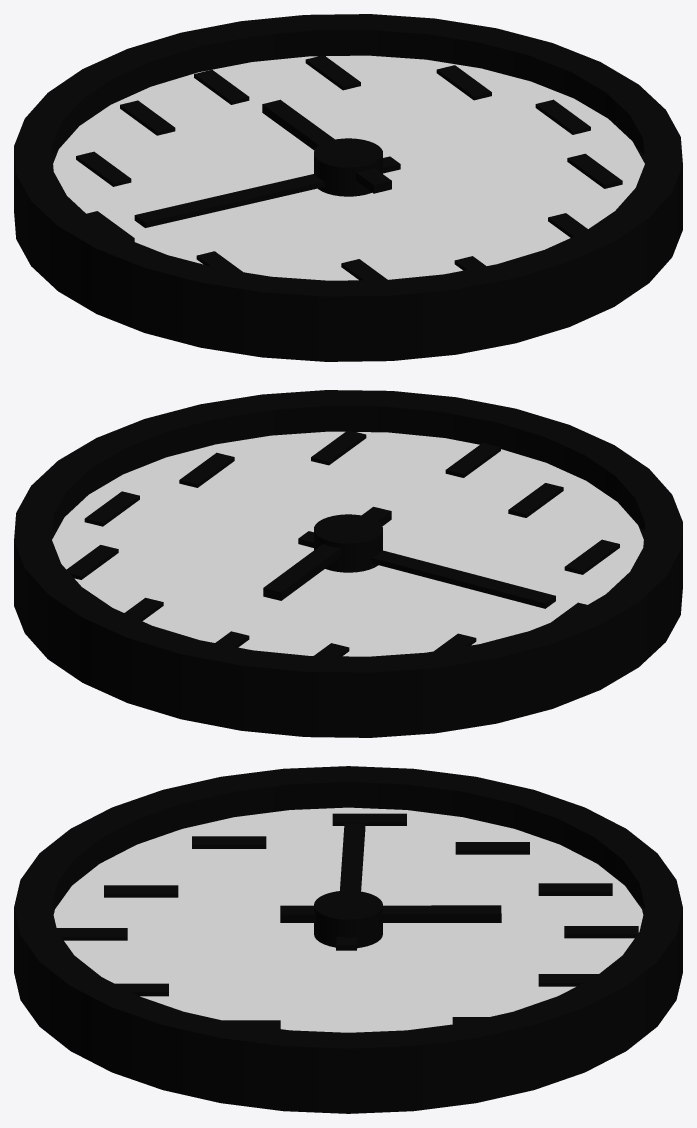
The model's file is Clock.fbx.
3 renders of one model, top to bottom at view 1: azimuth 30°, elevation 25°; view 2: azimuth 150°, elevation 25°; view 3: azimuth 270°, elevation 25°, orthographic.
Parts seen in each view (by area): view 1: Circle, Circle.001, Cube.003, Cube.001, Cylinder, Cube; view 2: Circle, Circle.001, Cube.003, Cube.001, Cylinder, Cube; view 3: Circle, Circle.001, Cube.003, Cylinder, Cube, Cube.001.
Part boxes in pixels (x1,y1,x2,y2): Circle: (14,14,682,361); Circle.001: (53,55,644,280); Cube.003: (76,55,622,280); Cube.001: (134,156,400,227); Cylinder: (314,138,382,196); Cube: (262,99,391,193); Circle: (14,390,682,737); Circle.001: (52,431,643,656); Cube.003: (66,430,619,656); Cube.001: (298,531,555,608); Cylinder: (314,514,382,572); Cube: (263,506,391,600); Circle: (14,766,682,1113); Circle.001: (53,807,643,1032); Cube.003: (56,813,638,1028); Cylinder: (314,890,382,947); Cube: (280,905,501,922); Cube.001: (336,823,365,950).
Bounding box in the file's own units: 216 × 23.98 × 216.
